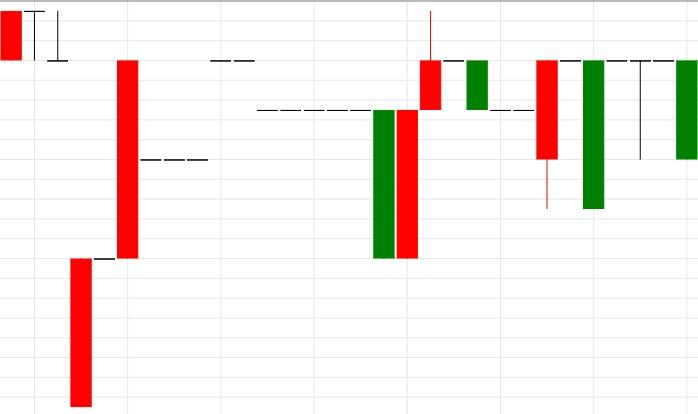bullish_engulfing_rise: (211, 59, 419, 259)
evening_star_fall: (372, 11, 488, 258)
